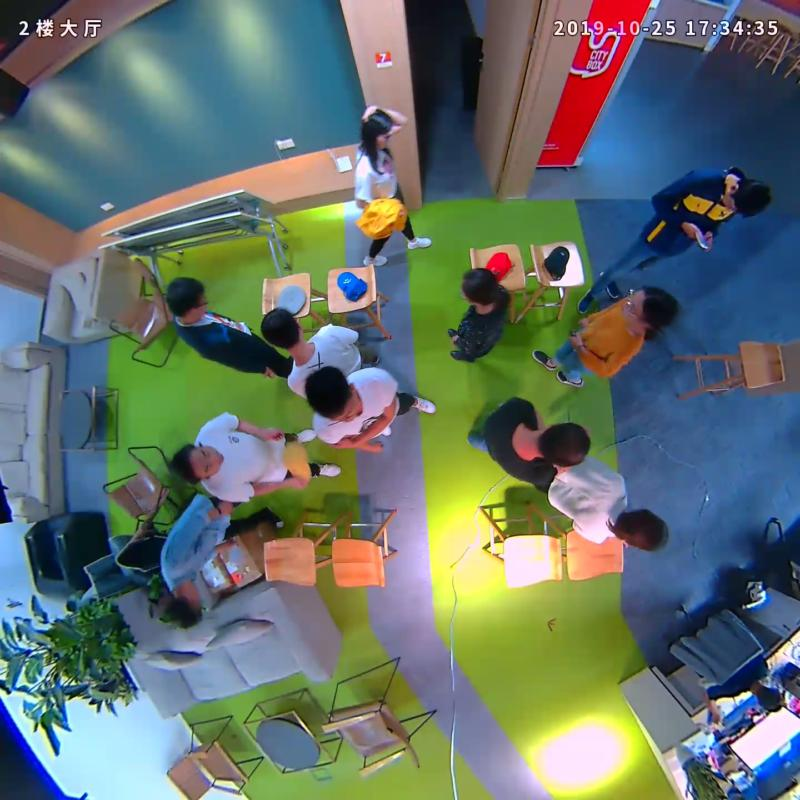head: (303, 364, 359, 423), (615, 507, 668, 553), (538, 421, 591, 466), (623, 286, 676, 327), (171, 444, 223, 484), (165, 277, 209, 319), (723, 178, 770, 217), (170, 576, 204, 629), (261, 307, 303, 348), (460, 268, 499, 307), (360, 107, 392, 150)
